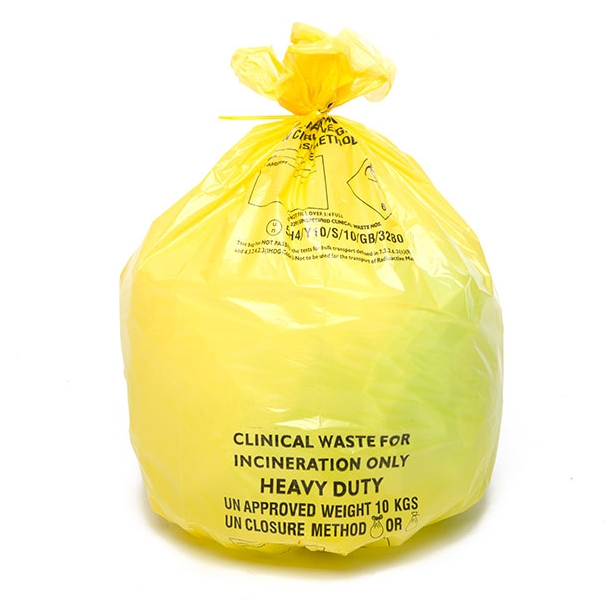plastic_bagwdw: (74, 11, 589, 576)
